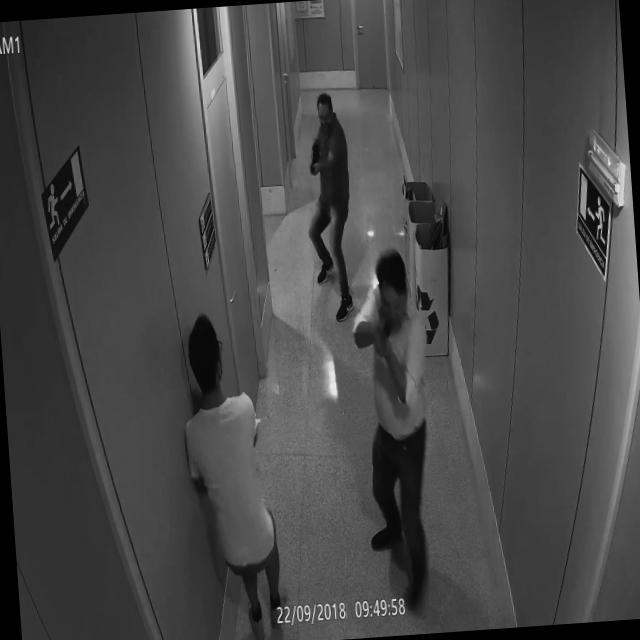gun: (374, 307, 396, 342), (308, 135, 324, 180)
person: (172, 305, 295, 640)
person with a gun: (350, 244, 452, 617), (296, 89, 361, 328)
